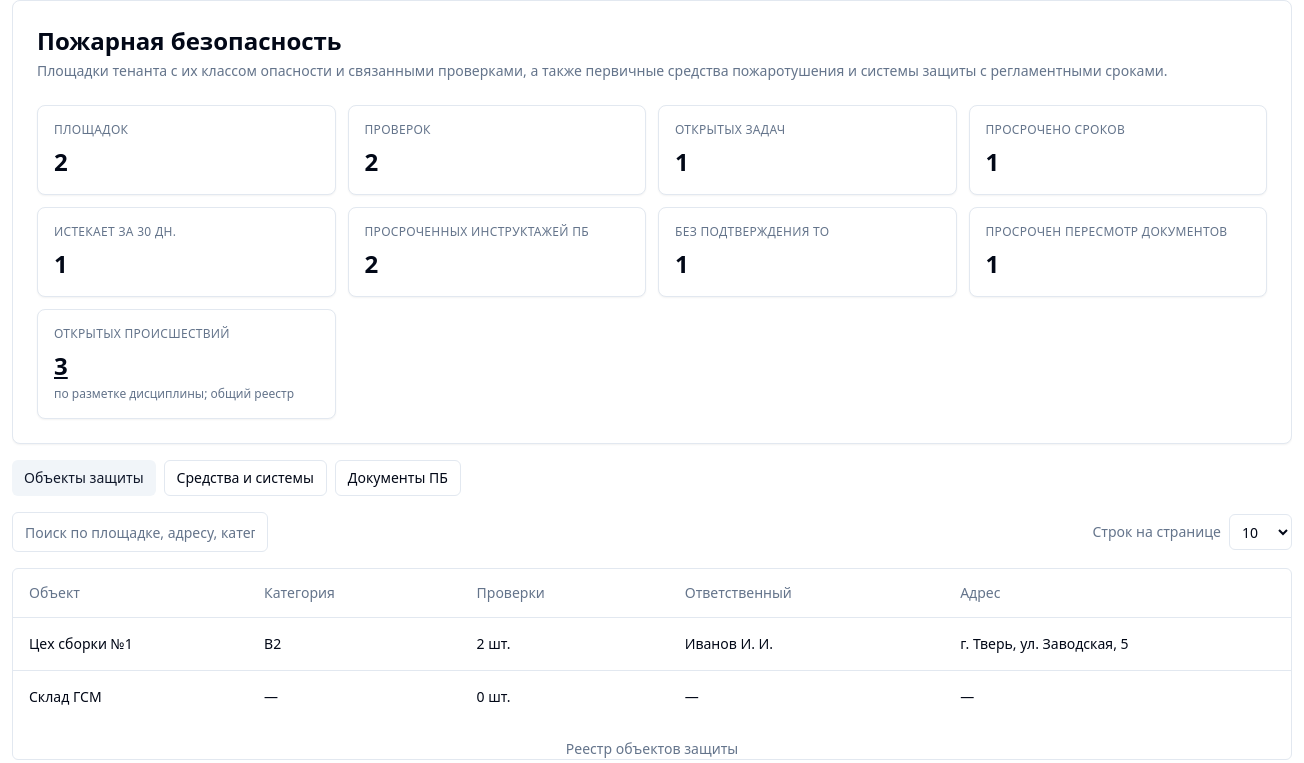
FireSafetyPage › реестр средств открывается второй секцией и называет просроченный срок
This screenshot has width=1304, height=763.
Expected: the text "Цех сборки №1" is shown, [13,617,248,670]
Click the button "Средства и системы" at (245, 478), box [164,460,327,496]
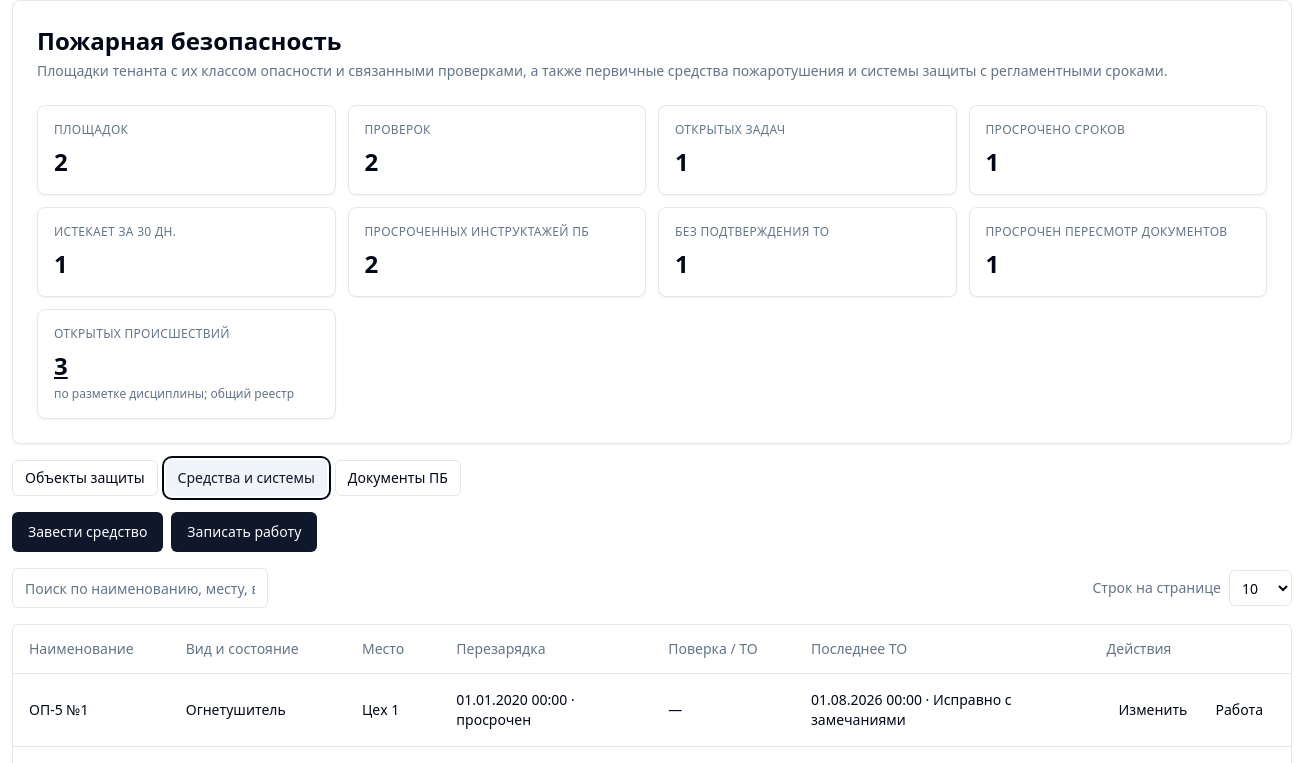
Now the text "ОП-5 №1" is shown, box [13,673,170,746]
Now the text "01.01.2020 00:00 · просрочен" is shown, box [440,673,652,746]
